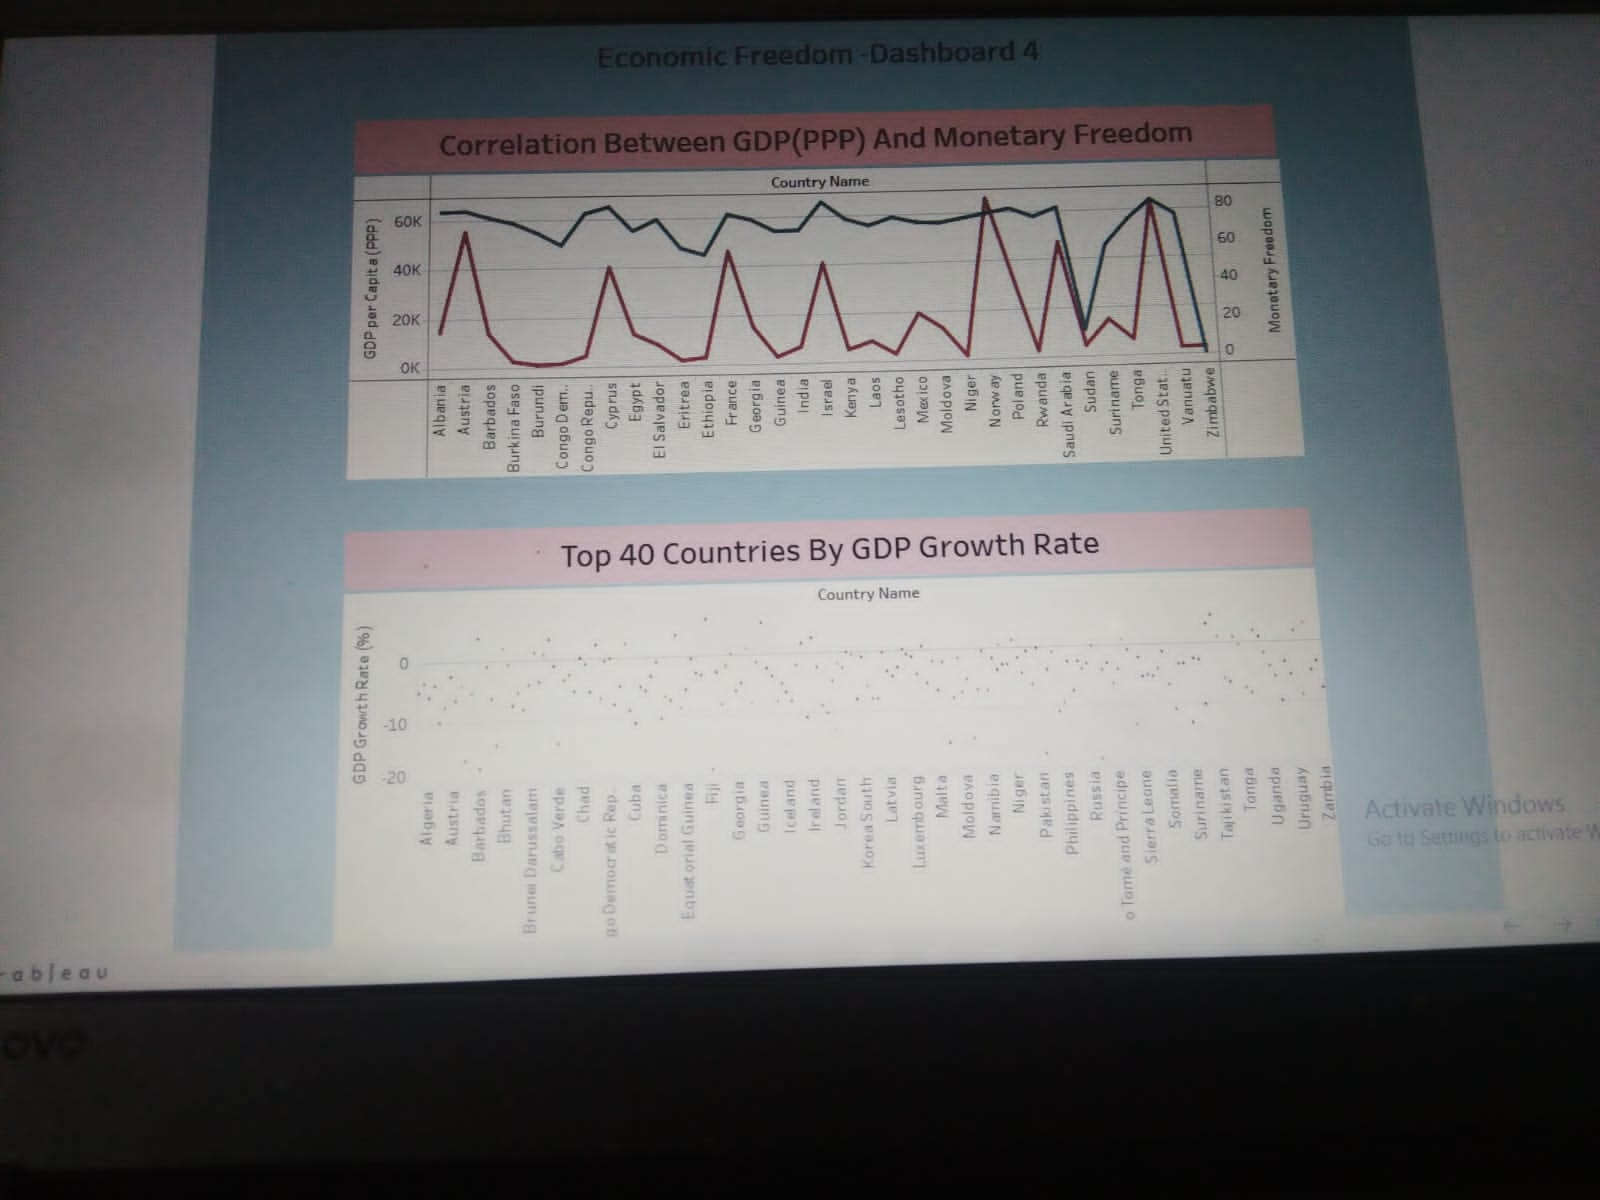

Layout of this report page (visuals, bound fields, positions):
{"tool":"tableau","page":{"name":"Dashboard 4","canvas":[1000,800],"ordinal":3},"visuals":[{"type":"title","box":[8,8,984,41]},{"type":"worksheet","title":"Correlation between GDP(PPP) and Monetary freedom","mark":"Line","rows":["GDP per Capita (PPP)","Monetary Freedom"],"cols":["Country Name"],"box":[119,81,758,302]},{"type":"worksheet","title":"Top 40 countries by GDP growth rate","mark":"Shape","rows":["GDP Growth Rate (%)"],"cols":["Country Name"],"box":[119,425,758,341]}]}

Visuals, with their boxes on the page's 1000x800 design canvas (x1, y1, x2, y2). These are canvas units, not pixel positions in the 1600x1200 screenshot, which may show the page scaled, cropped or inside an application window:
title: 8, 8, 992, 49
"Correlation between GDP(PPP) and Monetary freedom" worksheet (Line marks): 119, 81, 877, 383
"Top 40 countries by GDP growth rate" worksheet (Shape marks): 119, 425, 877, 766
